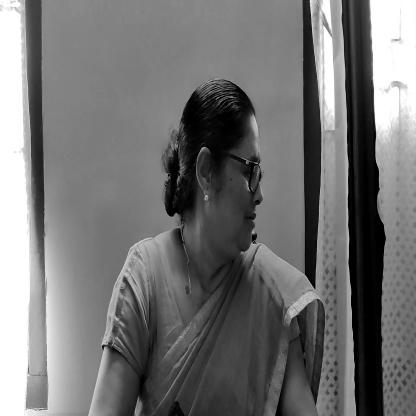Distracted: (162, 78, 264, 260)
